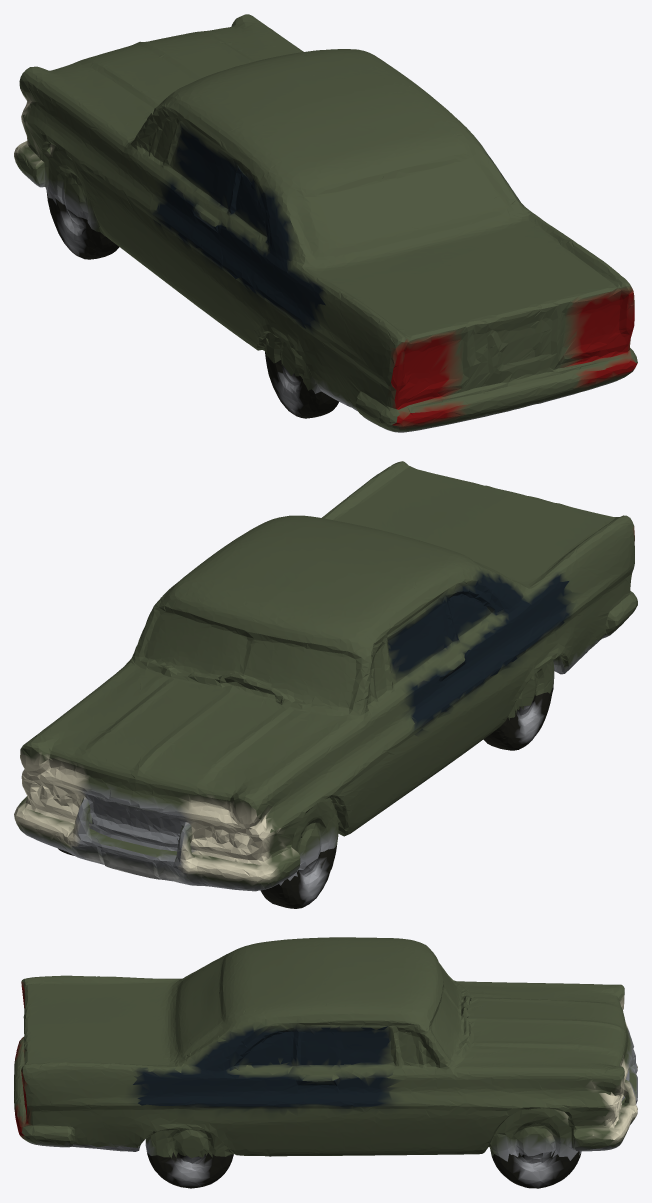
The model's file is vintage.glb.
3 views of the same model, one above another, from view 1: azimuth 30°, elevation 25°; view 2: azimuth 150°, elevation 25°; view 3: azimuth 270°, elevation 25° (orthographic). The views are drawn at different scales.
Visible parts, largest first — view 1: body, wheel_1, wheel_0; view 2: body, wheel_0, wheel_1; view 3: body, wheel_2, wheel_3.
Part boxes in pixels (bbox=[...]): body: bbox=[14, 14, 637, 432]; wheel_1: bbox=[265, 352, 338, 418]; wheel_0: bbox=[46, 191, 119, 259]; body: bbox=[14, 461, 637, 891]; wheel_0: bbox=[260, 844, 337, 908]; wheel_1: bbox=[483, 688, 553, 750]; body: bbox=[14, 937, 637, 1161]; wheel_2: bbox=[491, 1150, 580, 1188]; wheel_3: bbox=[147, 1152, 233, 1188].
Bounding box in the file's own units: 77.45 × 61.57 × 197.
